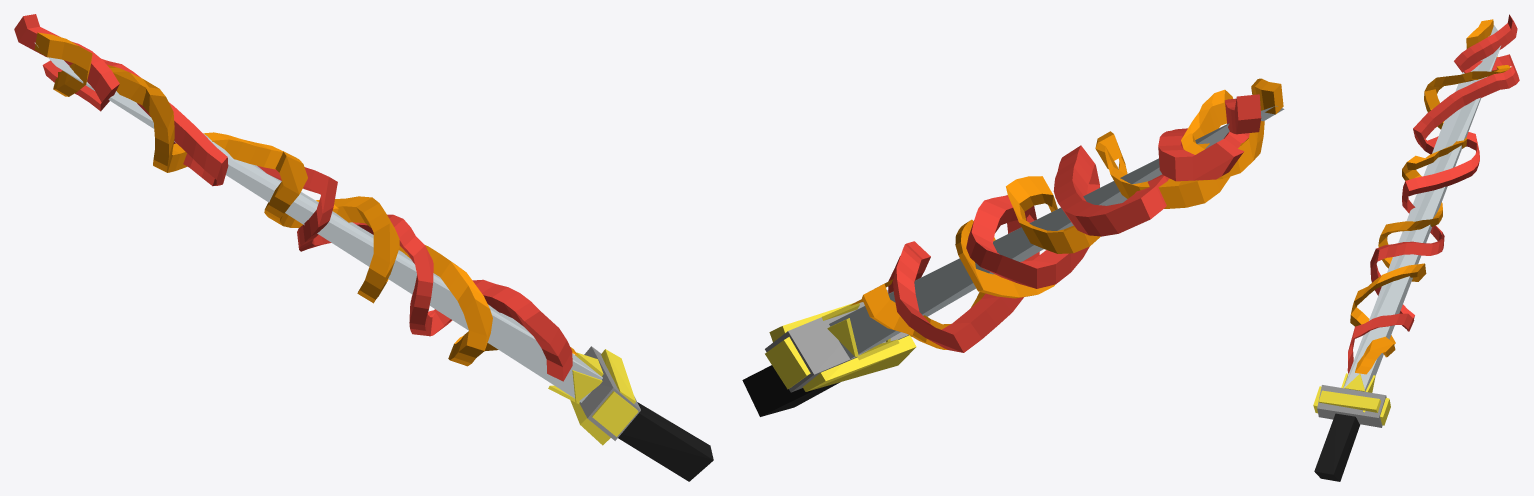
File: Sword_Quinlan.fbx
The picture shows the model from 3 angles, left to right: view 1: azimuth 30°, elevation 25°; view 2: azimuth 150°, elevation 25°; view 3: azimuth 270°, elevation 25°; orthographic projection. The views are drawn at different scales.
Visible parts, largest first — view 1: group_1302398918, group_348280555, mesh_2110108981, mesh_1058072789, mesh_1715427425, mesh_1008331815, mesh_123872843; view 2: group_348280555, group_1302398918, mesh_2110108981, mesh_1715427425, mesh_1058072789, mesh_458880073, mesh_63516357, group_362032478; view 3: group_348280555, mesh_2110108981, group_1302398918, mesh_1058072789, mesh_1715427425, mesh_123872843.
Boxes of the visible parts, left/top/right/bottom form: group_1302398918: left=34, top=32, right=578, bottom=366; group_348280555: left=14, top=14, right=572, bottom=381; mesh_2110108981: left=34, top=42, right=602, bottom=402; mesh_1058072789: left=618, top=402, right=713, bottom=481; mesh_1715427425: left=579, top=346, right=640, bottom=440; mesh_1008331815: left=592, top=391, right=638, bottom=436; mesh_123872843: left=601, top=349, right=635, bottom=403; group_348280555: left=888, top=94, right=1261, bottom=352; group_1302398918: left=850, top=78, right=1283, bottom=349; mesh_2110108981: left=829, top=105, right=1284, bottom=358; mesh_1715427425: left=765, top=290, right=911, bottom=392; mesh_1058072789: left=742, top=365, right=840, bottom=416; mesh_458880073: left=802, top=335, right=916, bottom=391; mesh_63516357: left=765, top=337, right=810, bottom=389; group_362032478: left=827, top=318, right=858, bottom=357; group_348280555: left=1347, top=14, right=1519, bottom=374; mesh_2110108981: left=1343, top=25, right=1501, bottom=391; group_1302398918: left=1350, top=19, right=1510, bottom=374; mesh_1058072789: left=1314, top=413, right=1360, bottom=481; mesh_1715427425: left=1317, top=385, right=1386, bottom=427; mesh_123872843: left=1318, top=390, right=1380, bottom=412.
Bounding box in the file's own units: 94.92 × 79.16 × 48.53.
